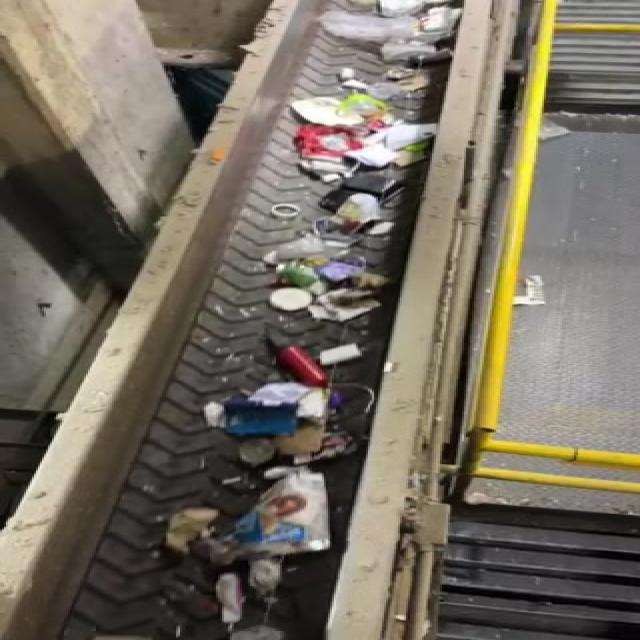pet: (248, 324, 345, 395)
pp: (182, 395, 320, 438)
ps: (196, 474, 338, 565), (206, 572, 258, 632)
